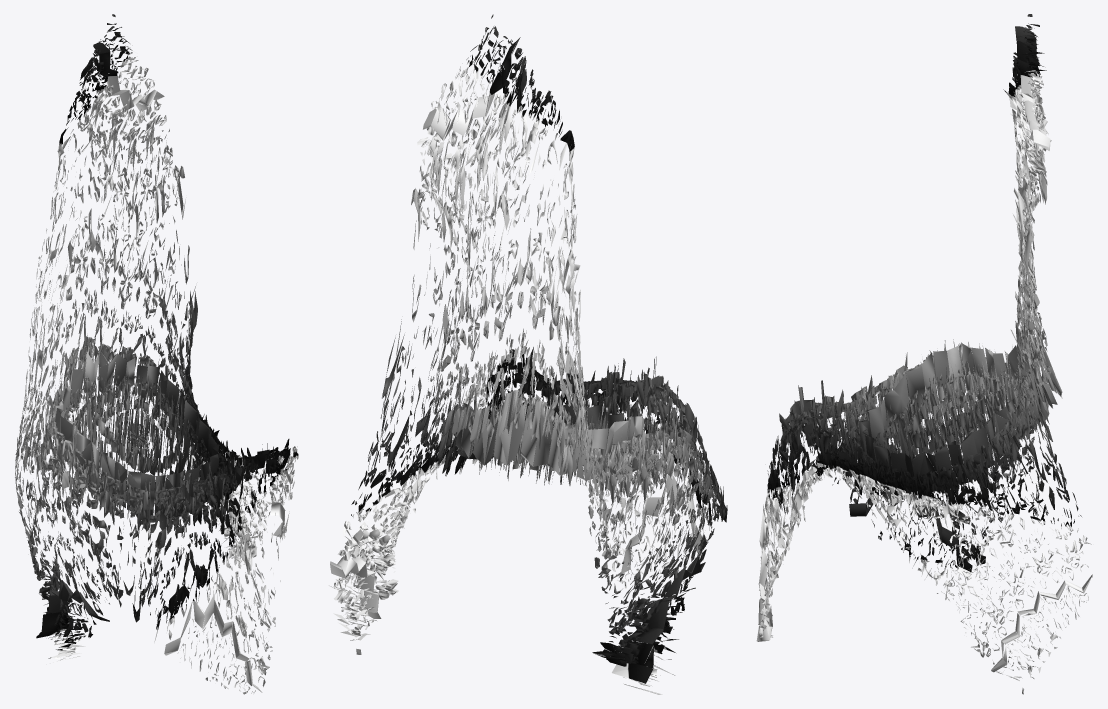
Rendered from angry-chair-mono-v34.glb.
The picture shows the model from 3 angles, left to right: view 1: azimuth 30°, elevation 25°; view 2: azimuth 150°, elevation 25°; view 3: azimuth 270°, elevation 25°; orthographic projection. The views are drawn at different scales.
Parts seen in each view (by area): view 1: Mesh_5; view 2: Mesh_5; view 3: Mesh_5.
Boxes of the visible parts, x1,y1,x2,y2 form: Mesh_5: (15, 14, 298, 694); Mesh_5: (329, 14, 727, 694); Mesh_5: (756, 14, 1092, 694).
Size of the model in its own units: 0.9133 by 2.1 by 1.03.
1 material, 1 textured.
